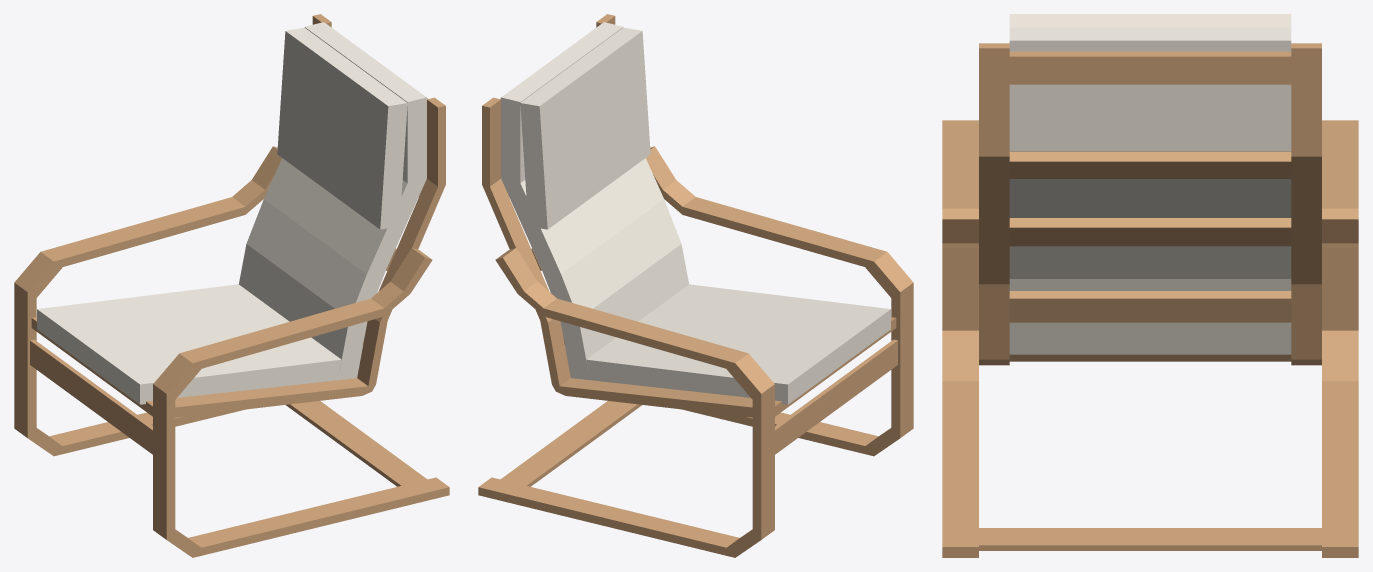
The model's file is Chair.fbx.
The picture shows the model from 3 angles, left to right: view 1: azimuth 30°, elevation 25°; view 2: azimuth 150°, elevation 25°; view 3: azimuth 270°, elevation 25°; orthographic projection. The views are drawn at different scales.
Visible parts, largest first — view 1: Chair; view 2: Chair; view 3: Chair.
Part boxes in pixels (x1,y1,x2,y2): Chair: (14,14,449,557); Chair: (478,14,913,557); Chair: (942,14,1358,557).
Bounding box in the file's own units: 152 × 187 × 136.
